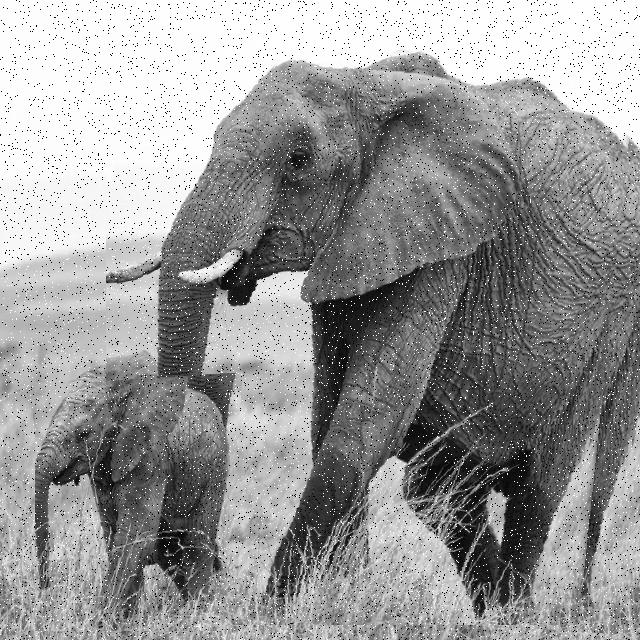elephant: (106, 33, 640, 625), (35, 372, 243, 631)
